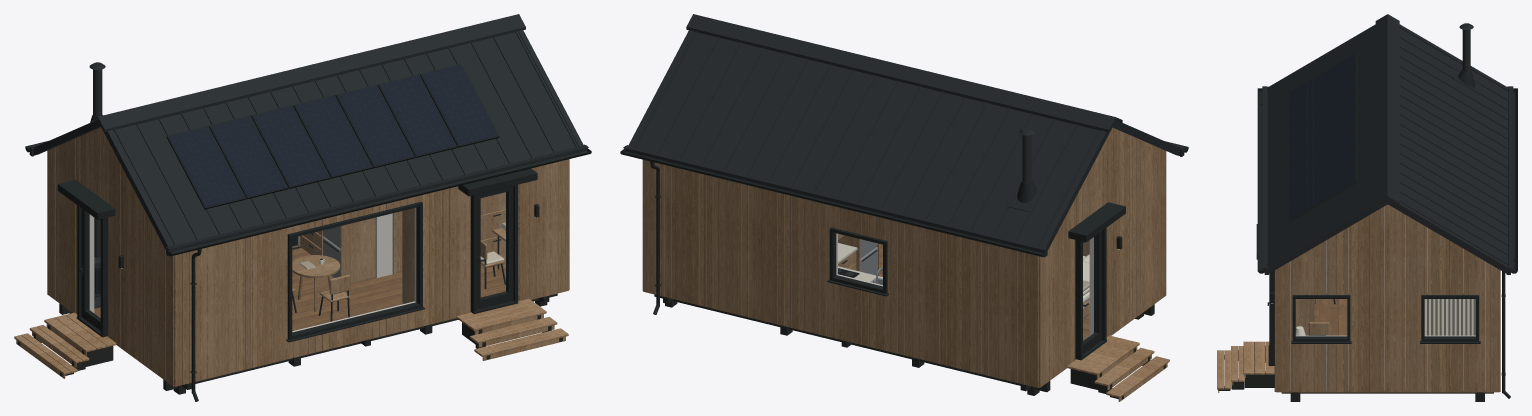
Rendered from aster-configurator.glb.
3 views of the same model, side by side, from view 1: azimuth 30°, elevation 25°; view 2: azimuth 150°, elevation 25°; view 3: azimuth 270°, elevation 25° (orthographic). The views are drawn at different scales.
Visible parts, largest first — view 1: Cladding_Front, RoofPlane_-1, Cladding_LeftGable, RidgeCap, FloorSlab, SolarPanelCells_6, SolarPanelCells_2, SolarPanelCells_3, SolarPanelCells_5, SolarPanelCells_4, SolarPanelCells_0, SolarPanelCells_1 (+31 smaller); view 2: RoofPlane_1, Cladding_Rear, Cladding_LeftGable, RidgeCap, Gutter_1, GutterDripApron_1, EaveFascia_1, BargeFlashing_(1, -4.38), LeftEntrance_Canopy, LongitudinalBaseRail_1.92, LeftEntrance_OuterJamb_1, BargeFlashing_(1, 4.38) (+6 smaller); view 3: Cladding_RightGable, RoofPlane_1, RoofPlane_-1, RidgeCap, BathroomOpaqueCurtain, Lining_RightGable, FloorSlab, SolarPanelCells_1, SolarPanelCells_6, SolarPanelCells_0, SolarPanelCells_2, SolarPanelCells_3 (+24 smaller).
Boxes of the visible parts, x1,y1,x2,y2 form: Cladding_Front: (174, 159, 568, 386); RoofPlane_-1: (112, 31, 578, 245); Cladding_LeftGable: (47, 127, 174, 386); RidgeCap: (91, 14, 525, 132); FloorSlab: (94, 248, 505, 330); SolarPanelCells_6: (421, 64, 498, 145); SolarPanelCells_2: (252, 106, 329, 186); SolarPanelCells_3: (295, 95, 371, 176); SolarPanelCells_5: (379, 75, 455, 155); SolarPanelCells_4: (337, 85, 413, 166); SolarPanelCells_0: (168, 126, 244, 207); SolarPanelCells_1: (210, 116, 287, 196); RoofPlane_1: (633, 31, 1100, 246); Cladding_Rear: (643, 159, 1038, 387); Cladding_LeftGable: (1039, 127, 1166, 387); RidgeCap: (686, 14, 1122, 132); Gutter_1: (620, 151, 1042, 256); GutterDripApron_1: (623, 145, 1046, 250); EaveFascia_1: (625, 148, 1046, 255); BargeFlashing_(1, -4.38): (1040, 121, 1114, 250); LeftEntrance_Canopy: (1068, 202, 1125, 242); LongitudinalBaseRail_1.92: (654, 294, 1050, 392); LeftEntrance_OuterJamb_1: (1075, 240, 1082, 360); BargeFlashing_(1, 4.38): (628, 30, 693, 146); Cladding_RightGable: (1276, 204, 1499, 392); RoofPlane_1: (1399, 28, 1507, 263); RoofPlane_-1: (1267, 28, 1375, 264); RidgeCap: (1375, 14, 1399, 205); BathroomOpaqueCurtain: (1424, 299, 1475, 335); Lining_RightGable: (1290, 206, 1485, 390); FloorSlab: (1282, 299, 1493, 392); SolarPanelCells_1: (1289, 72, 1355, 127); SolarPanelCells_6: (1289, 163, 1355, 219); SolarPanelCells_0: (1289, 53, 1355, 109); SolarPanelCells_2: (1289, 90, 1355, 146); SolarPanelCells_3: (1289, 108, 1355, 164).
Bounding box in the file's own units: 9.92 × 5.19 × 6.26.
25 materials, 4 textured.
